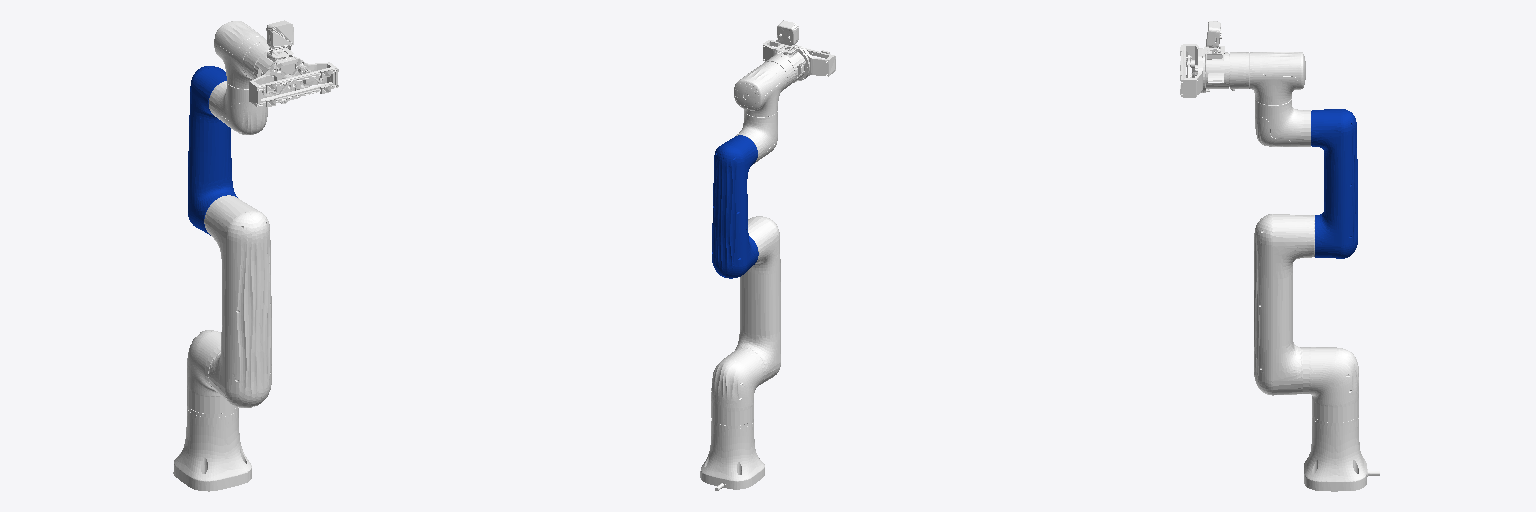
The robot description file, URDF, robot "xtrainer_arm":
<?xml version="1.0" encoding="utf-8"?>
<!-- This URDF was automatically created by SolidWorks to URDF Exporter! Originally created by
Stephen Brawner (brawner@gmail.com)
     Commit Version: 1.6.0-1-g15f4949  Build Version: 1.6.7594.29634
     For more information, please see http://wiki.ros.org/sw_urdf_exporter -->
<robot name="xtrainer_arm" urdf_version="xtrainer-origin">
  <link name="LINK_0">
    <inertial>
      <origin xyz="-5.68269364273134E-05 0.00032632897525032 0.0647238264909571" rpy="0 0 0" />
      <mass value="0.949807040300757" />
      <inertia ixx="0.00192354647686559" ixy="-3.5569296199005E-07" ixz="7.19203207381994E-07" iyy="0.00192794885883457" iyz="7.63556074584266E-07" izz="0.00128085753842209" />
    </inertial>
    <visual>
      <origin xyz="0 0 0" rpy="0 0 0" />
      <geometry>
        <mesh filename="package://robotics/drivers/dobot/description/meshes/xtrainer/base_link.STL" />
      </geometry>
      <material name="">
        <color rgba="1 1 1 1" />
      </material>
    </visual>
    <collision>
      <origin xyz="0 0 0" rpy="0 0 0" />
      <geometry>
        <mesh filename="package://robotics/drivers/dobot/description/meshes/xtrainer/base_link.STL" />
      </geometry>
    </collision>
  </link>
  <link name="LINK_1">
    <inertial>
      <origin xyz="-5.65197192524001E-07 -0.0218721820210573 -0.0236240052195699" rpy="0 0 0" />
      <mass value="0.803373181367942" />
      <inertia ixx="0.00167953489998163" ixy="1.52076248134064E-07" ixz="6.71055132499376E-08" iyy="0.00146966202512486" iyz="0.000442023628303465" izz="0.00103706887056794" />
    </inertial>
    <visual>
      <origin xyz="0 0 0" rpy="0 0 0" />
      <geometry>
        <mesh filename="package://robotics/drivers/dobot/description/meshes/xtrainer/J1.STL" />
      </geometry>
      <material name="">
        <color rgba="1 1 1 1" />
      </material>
    </visual>
    <collision>
      <origin xyz="0 0 0" rpy="0 0 0" />
      <geometry>
        <mesh filename="package://robotics/drivers/dobot/description/meshes/xtrainer/J1.STL" />
      </geometry>
    </collision>
  </link>
  <joint name="J_1" type="revolute">
    <origin xyz="0 0 0.2234" rpy="0 0 0" />
    <parent link="LINK_0" />
    <child link="LINK_1" />
    <axis xyz="0 0 1" />
    <limit lower="-3.14" upper="3.14" effort="100" velocity="100" />
  </joint>
  <link name="LINK_2">
    <inertial>
      <origin xyz="-0.150315452581084 7.53445130409325E-06 0.0931425829318985" rpy="0 0 0" />
      <mass value="1.57800314144516" />
      <inertia ixx="0.00156669413728986" ixy="-4.08225129063918E-07" ixz="-0.00115245047452325" iyy="0.0216390570049862" iyz="-5.62853915685086E-08" izz="0.0217356952133359" />
    </inertial>
    <visual>
      <origin xyz="0 0 0" rpy="0 0 0" />
      <geometry>
        <mesh filename="package://robotics/drivers/dobot/description/meshes/xtrainer/J2.STL" />
      </geometry>
      <material name="">
        <color rgba="1 1 1 1" />
      </material>
    </visual>
    <collision>
      <origin xyz="0 0 0" rpy="0 0 0" />
      <geometry>
        <mesh filename="package://robotics/drivers/dobot/description/meshes/xtrainer/J2.STL" />
      </geometry>
    </collision>
  </link>
  <joint name="J_2" type="revolute">
    <origin xyz="0 0 0" rpy="1.5707963267949 1.5707963267949 0" />
    <parent link="LINK_1" />
    <child link="LINK_2" />
    <axis xyz="0 0 1" />
    <limit lower="-3.14" upper="3.14" effort="100" velocity="100" />
  </joint>
  <link name="LINK_3">
    <inertial>
      <origin xyz="-0.11829530265617 3.4913911960105E-06 0.0113001918322732" rpy="0 0 0" />
      <mass value="0.998646227349197" />
      <inertia ixx="0.00077569311375886" ixy="8.54864098812045E-08" ixz="0.000543541403365136" iyy="0.00938193659872665" iyz="6.41884238351191E-08" izz="0.0094010547632182" />
    </inertial>
    <visual>
      <origin xyz="0 0 0" rpy="0 0 0" />
      <geometry>
        <mesh filename="package://robotics/drivers/dobot/description/meshes/xtrainer/J3.STL" />
      </geometry>
      <material name="">
        <color rgba="0.0862745098039216 0.294117647058824 0.749019607843137 1" />
      </material>
    </visual>
    <collision>
      <origin xyz="0 0 0" rpy="0 0 0" />
      <geometry>
        <mesh filename="package://robotics/drivers/dobot/description/meshes/xtrainer/J3.STL" />
      </geometry>
    </collision>
  </link>
  <joint name="J_3" type="revolute">
    <origin xyz="-0.28 0 0" rpy="0 0 0" />
    <parent link="LINK_2" />
    <child link="LINK_3" />
    <axis xyz="0 0 1" />
    <limit lower="-3.14" upper="3.14" effort="100" velocity="100" />
  </joint>
  <link name="LINK_4">
    <inertial>
      <origin xyz="-6.75890392088209E-06 -0.022667420396611 -0.0204630900415074" rpy="0 0 0" />
      <mass value="0.441609477894635" />
      <inertia ixx="0.000641185874043712" ixy="1.35467068924267E-08" ixz="2.62706359334601E-08" iyy="0.000455379178453104" iyz="0.000213286179389194" izz="0.000482725147812643" />
    </inertial>
    <visual>
      <origin xyz="0 0 0" rpy="0 0 0" />
      <geometry>
        <mesh filename="package://robotics/drivers/dobot/description/meshes/xtrainer/J4.STL" />
      </geometry>
      <material name="">
        <color rgba="1 1 1 1" />
      </material>
    </visual>
    <collision>
      <origin xyz="0 0 0" rpy="0 0 0" />
      <geometry>
        <mesh filename="package://robotics/drivers/dobot/description/meshes/xtrainer/J4.STL" />
      </geometry>
    </collision>
  </link>
  <joint name="J_4" type="revolute">
    <origin xyz="-0.225 0 0.1175" rpy="0 0 -1.57079637654807" />
    <parent link="LINK_3" />
    <child link="LINK_4" />
    <axis xyz="0 0 1" />
    <limit lower="-3.14" upper="3.14" effort="100" velocity="100" />
  </joint>
  <link name="LINK_5">
    <inertial>
      <origin xyz="-1.99535969620709E-06 0.00155681600061644 -0.0074870419101597" rpy="0 0 0" />
      <mass value="0.583814996907031" />
      <inertia ixx="0.000666644039600493" ixy="1.15592811229631E-08" ixz="1.38509613362661E-08" iyy="0.000404278555269793" iyz="-0.000120256143942442" izz="0.000644532573491125" />
    </inertial>
    <visual>
      <origin xyz="0 0 0" rpy="0 0 0" />
      <geometry>
        <mesh filename="package://robotics/drivers/dobot/description/meshes/xtrainer/J5.STL" />
      </geometry>
      <material name="">
        <color rgba="1 1 1 1" />
      </material>
    </visual>
    <collision>
      <origin xyz="0 0 0" rpy="0 0 0" />
      <geometry>
        <mesh filename="package://robotics/drivers/dobot/description/meshes/xtrainer/J5.STL" />
      </geometry>
    </collision>
  </link>
  <joint name="J_5" type="revolute">
    <origin xyz="0 -0.12 0" rpy="1.5707963267949 0 0" />
    <parent link="LINK_4" />
    <child link="LINK_5" />
    <axis xyz="0 0 1" />
    <limit lower="-3.14" upper="3.14" effort="100" velocity="100" />
  </joint>
  <link name="LINK_6">
    <inertial>
      <origin xyz="0.000352958226586775 -0.00670103021677548 0.0489811978556805" rpy="0 0 0" />
      <mass value="0.44989502189887" />
      <inertia ixx="0.000187336577585391" ixy="-7.14692383579506E-07" ixz="-2.07418530987097E-07" iyy="0.000351222028390666" iyz="1.09119051840542E-06" izz="0.000384368948985168" />
    </inertial>
    <visual>
      <origin xyz="0 0 0" rpy="0 0 0" />
      <geometry>
        <mesh filename="package://robotics/drivers/dobot/description/meshes/xtrainer/J6.STL" />
      </geometry>
      <material name="">
        <color rgba="1 1 1 1" />
      </material>
    </visual>
    <collision>
      <origin xyz="0 0 0" rpy="0 0 0" />
      <geometry>
        <mesh filename="package://robotics/drivers/dobot/description/meshes/xtrainer/J6.STL" />
      </geometry>
    </collision>
  </link>
  <joint name="J_6" type="revolute">
    <origin xyz="0 0.0829999998597296 0" rpy="-1.5707963267949 0 0" />
    <parent link="LINK_5" />
    <child link="LINK_6" />
    <axis xyz="0 0 1" />
    <limit lower="-3.14" upper="3.14" effort="100" velocity="100" />
  </joint>
  <link name="gripper_link"/>
  <joint name="gripper_joint" type="fixed">
    <origin xyz="0 0 0.19" rpy="0 0 0" />
    <parent link="LINK_6" />
    <child link="gripper_link" />
  </joint>
  <!-- TCP: 工具中心点(Tool Center Point)。
       沿 LINK_6 局部 +Z 平移 0.19m, 无任何旋转 -> TCP 的姿态与 LINK_6 完全一致。
       xtrainer_plan 的规划以此为 ee_link, 因此 yaml 里给的 position/rpy_deg
       直接就是 TCP 的目标位姿, 姿态搜索的右乘也是绕 TCP 自身轴(= LINK_6 轴)。
       本 link 无碰撞几何, 碰撞检测仍由 LINK_6 的 9 个碰撞球承担。 -->
  <link name="TCP_LINK"/>
  <joint name="TCP_joint" type="fixed">
    <origin xyz="0 0 0.19" rpy="0 0 0" />
    <parent link="LINK_6" />
    <child link="TCP_LINK" />
  </joint>

</robot>

--- Facts derived from the render (not from the file) ---
3 views of the same robot in one strip: view 1: azimuth 30°, elevation 25°; view 2: azimuth 150°, elevation 25°; view 3: azimuth 270°, elevation 25° (orthographic).
Model xtrainer_arm with 9 links and 8 joints (6 revolute, 2 fixed), rooted at LINK_0, posed every joint at zero.
Visible links, largest first — view 1: LINK_2, LINK_3, LINK_0, LINK_6, LINK_1, LINK_4, LINK_5; view 2: LINK_3, LINK_2, LINK_0, LINK_1, LINK_6, LINK_5, LINK_4; view 3: LINK_2, LINK_3, LINK_0, LINK_1, LINK_6, LINK_5, LINK_4.
Boxes of the visible links, x1=… form: LINK_2: x1=204, y1=195, x2=271, y2=407; LINK_3: x1=188, y1=66, x2=237, y2=235; LINK_0: x1=173, y1=406, x2=251, y2=491; LINK_6: x1=245, y1=20, x2=338, y2=107; LINK_1: x1=187, y1=330, x2=236, y2=413; LINK_4: x1=209, y1=81, x2=267, y2=134; LINK_5: x1=214, y1=21, x2=266, y2=88; LINK_3: x1=712, y1=135, x2=758, y2=278; LINK_2: x1=735, y1=216, x2=780, y2=383; LINK_0: x1=700, y1=419, x2=764, y2=490; LINK_1: x1=711, y1=348, x2=765, y2=425; LINK_6: x1=763, y1=20, x2=835, y2=88; LINK_5: x1=734, y1=61, x2=787, y2=116; LINK_4: x1=736, y1=111, x2=777, y2=163; LINK_2: x1=1254, y1=214, x2=1314, y2=395; LINK_3: x1=1311, y1=109, x2=1357, y2=258; LINK_0: x1=1304, y1=415, x2=1379, y2=491; LINK_1: x1=1303, y1=347, x2=1358, y2=422; LINK_6: x1=1180, y1=21, x2=1245, y2=97; LINK_5: x1=1246, y1=52, x2=1305, y2=104; LINK_4: x1=1255, y1=99, x2=1310, y2=146.
Size in the robot's own frame: 0.16 by 0.379 by 0.9459 metres.
7 mesh visuals loaded from 7 distinct referenced files (7 binary STL).
